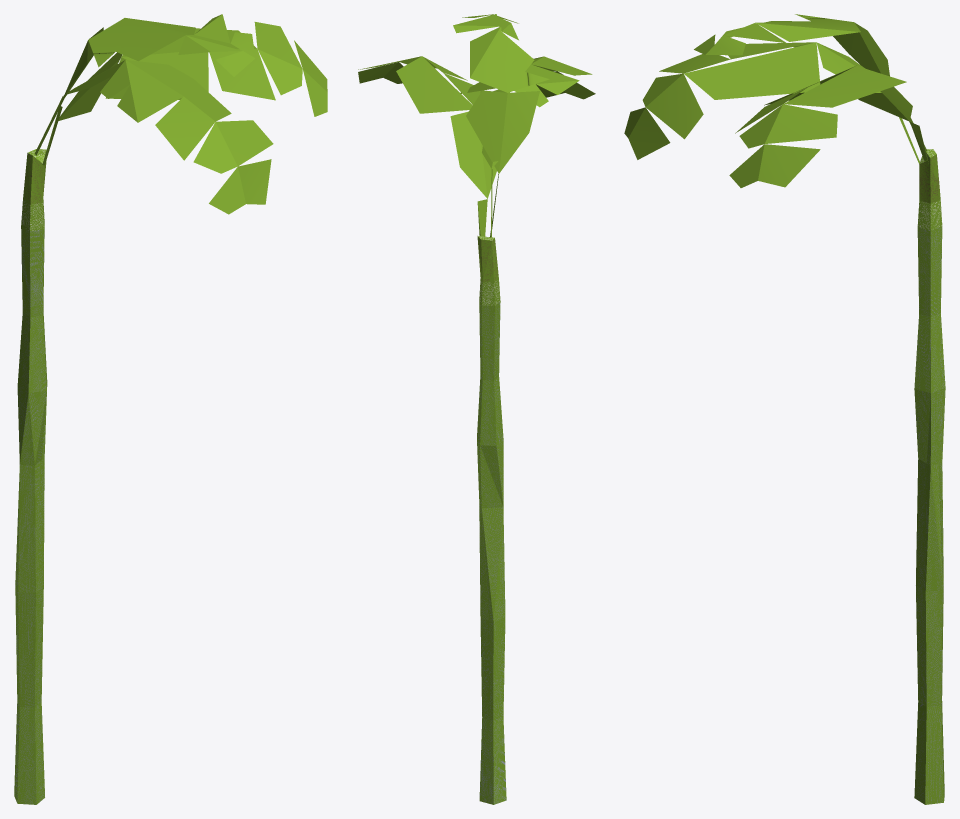
Rendered from Tree_Bamboo_01.fbx.
The picture shows the model from 3 angles, left to right: view 1: azimuth 30°, elevation 25°; view 2: azimuth 150°, elevation 25°; view 3: azimuth 270°, elevation 25°; orthographic projection. The views are drawn at different scales.
Parts seen in each view (by area): view 1: Model; view 2: Model; view 3: Model.
Part boxes in pixels (bbox=[...]): Model: bbox=[14, 14, 327, 804]; Model: bbox=[358, 14, 595, 804]; Model: bbox=[624, 14, 945, 804].
Bounding box in the file's own units: 218 × 702 × 251.
